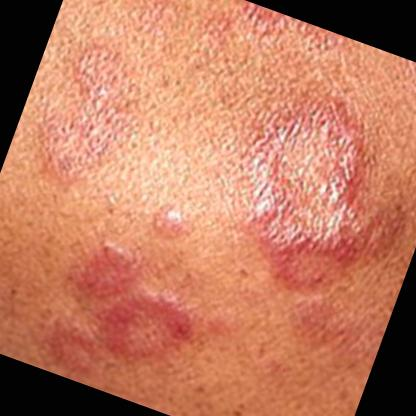Leprosy: (204, 80, 416, 300), (66, 0, 416, 133), (22, 223, 225, 416), (14, 29, 156, 198), (138, 196, 198, 250)
